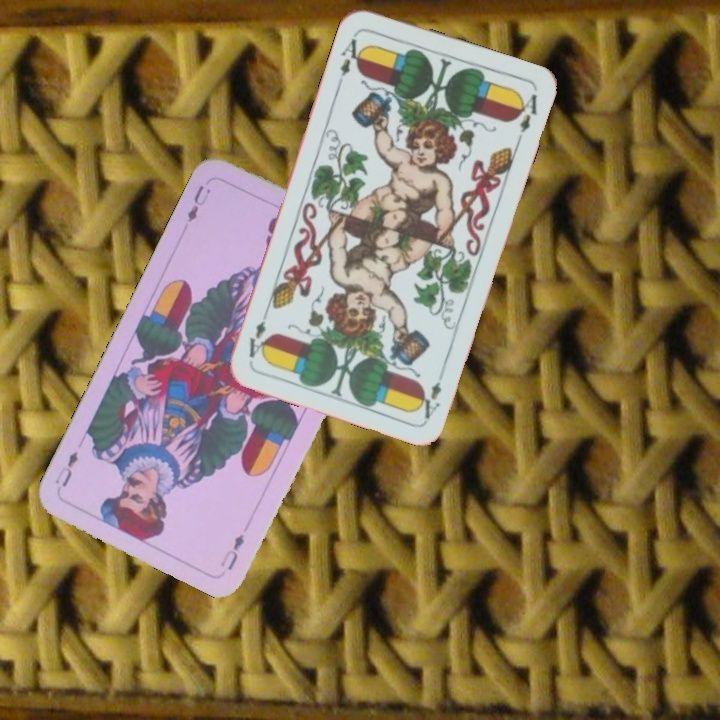EA: (335, 29, 367, 87), (413, 378, 444, 421)
EU: (182, 181, 213, 225), (216, 529, 247, 573)
